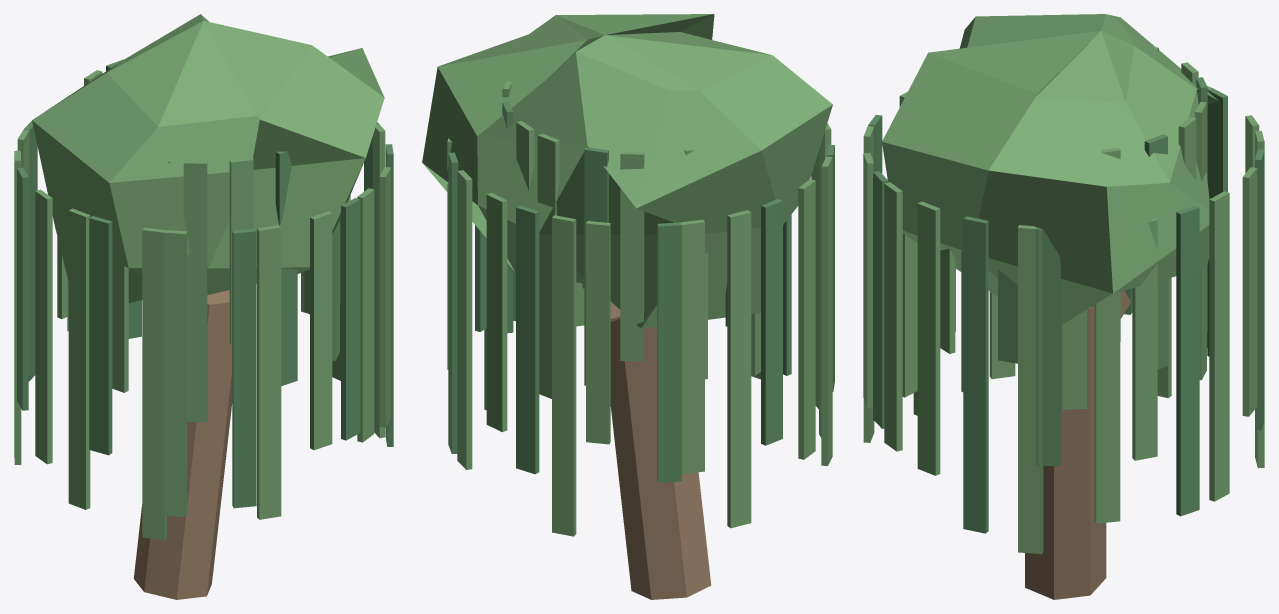
Rendered from willow.glb.
The picture shows the model from 3 angles, left to right: view 1: azimuth 30°, elevation 25°; view 2: azimuth 150°, elevation 25°; view 3: azimuth 270°, elevation 25°; orthographic projection. The views are drawn at different scales.
Visible parts, largest first — view 1: willow; view 2: willow; view 3: willow.
Boxes of the visible parts, x1,y1,x2,y2 form: willow: (14,14,393,599); willow: (422,14,834,599); willow: (863,14,1264,599).
Size of the model in its own units: 3.86 by 5.64 by 3.56.
